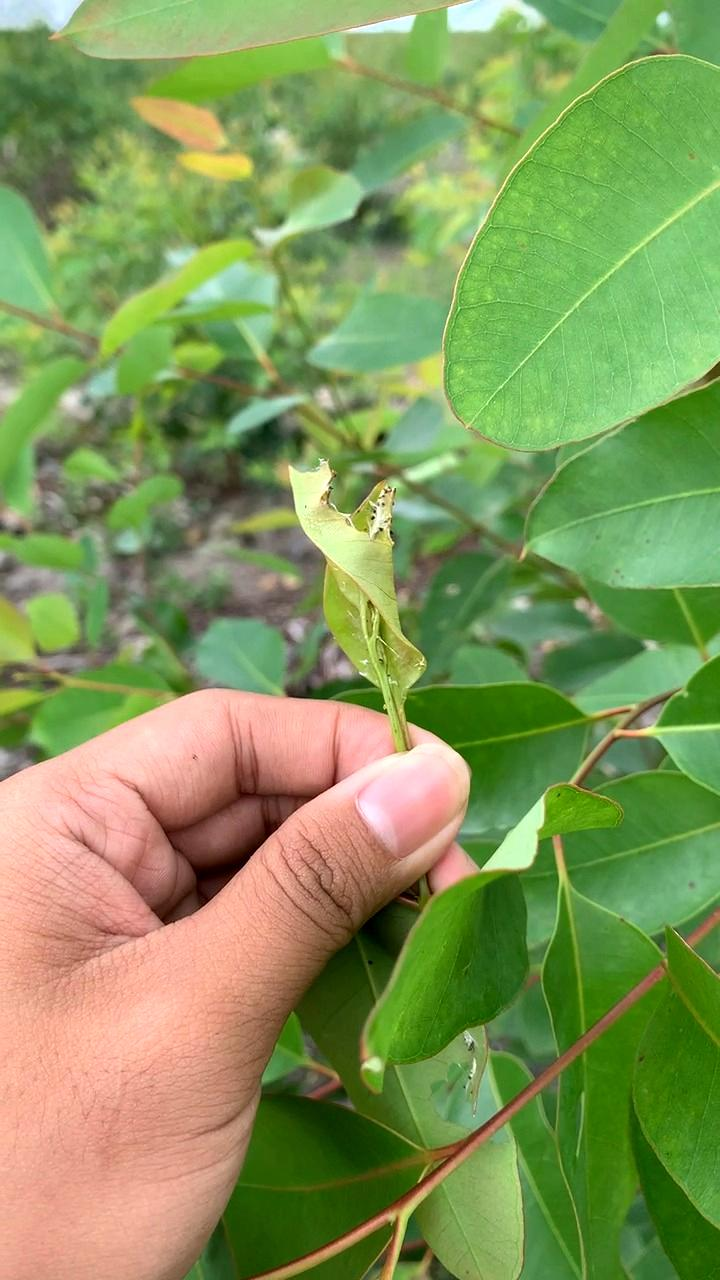Leaf Roller - Leaf: (286, 458, 437, 705)
